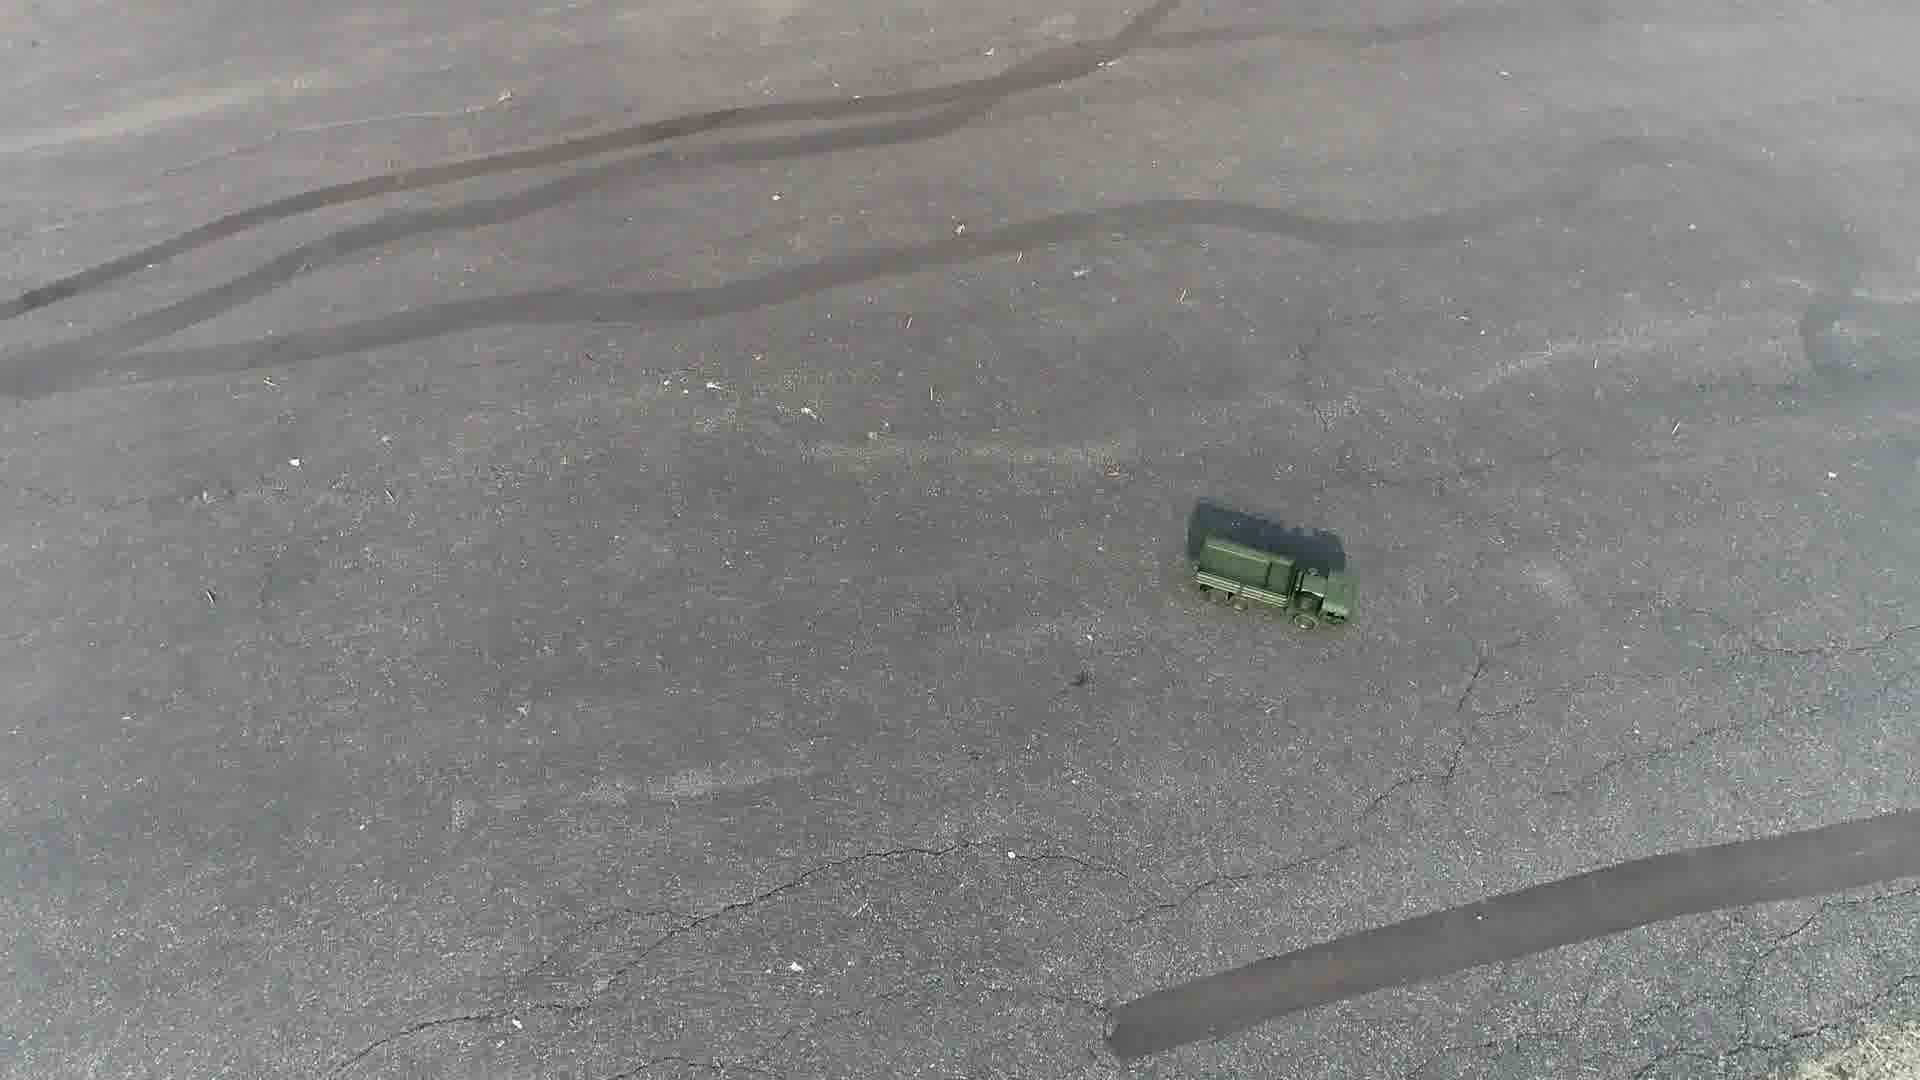transporter9: (1182, 527, 1366, 636)
